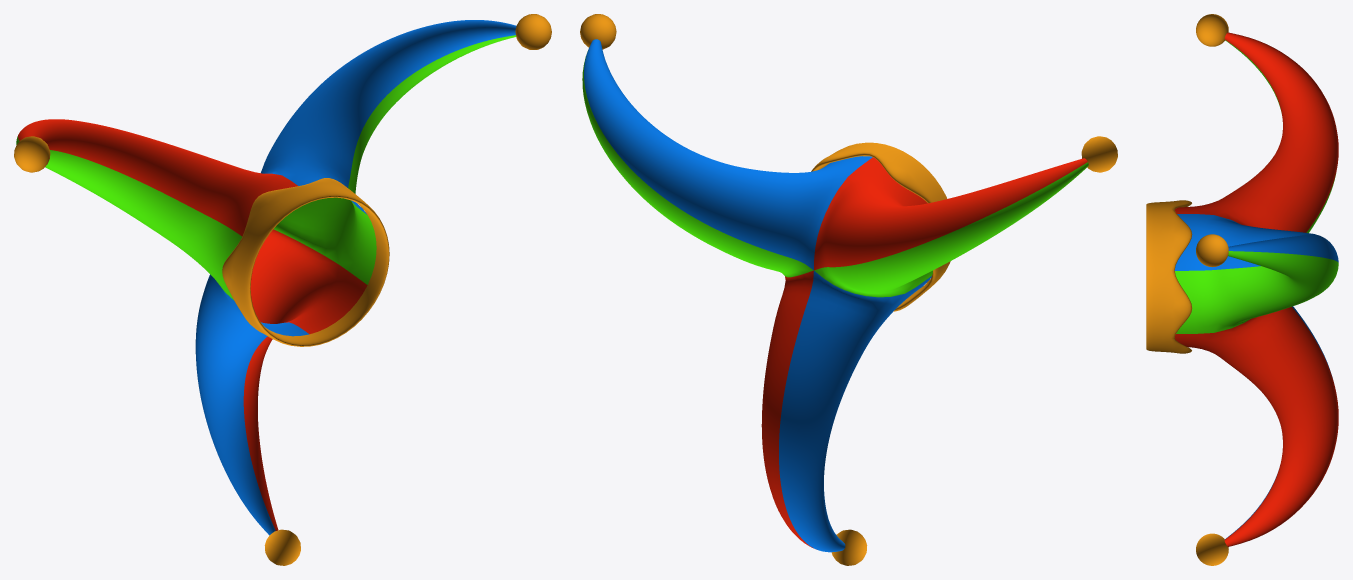
The model's file is clown_hat.fbx.
The picture shows the model from 3 angles, left to right: view 1: azimuth 30°, elevation 25°; view 2: azimuth 150°, elevation 25°; view 3: azimuth 270°, elevation 25°; orthographic projection. The views are drawn at different scales.
Visible parts, largest first — view 1: imagetostl_mesh2, imagetostl_mesh0, imagetostl_mesh1, imagetostl_mesh3, imagetostl_mesh5, imagetostl_mesh6, imagetostl_mesh4; view 2: imagetostl_mesh2, imagetostl_mesh0, imagetostl_mesh1, imagetostl_mesh3, imagetostl_mesh6, imagetostl_mesh4, imagetostl_mesh5; view 3: imagetostl_mesh0, imagetostl_mesh1, imagetostl_mesh3, imagetostl_mesh2, imagetostl_mesh4, imagetostl_mesh6, imagetostl_mesh5.
Part boxes in pixels (box(x1,y1,x2,y2)): imagetostl_mesh2: box(195, 20, 516, 535); imagetostl_mesh0: box(17, 119, 367, 530); imagetostl_mesh1: box(16, 35, 516, 299); imagetostl_mesh3: box(222, 178, 389, 346); imagetostl_mesh5: box(264, 529, 300, 565); imagetostl_mesh6: box(14, 136, 50, 172); imagetostl_mesh4: box(515, 14, 551, 49); imagetostl_mesh2: box(584, 39, 931, 552); imagetostl_mesh0: box(761, 157, 1087, 548); imagetostl_mesh1: box(582, 51, 1088, 297); imagetostl_mesh3: box(811, 142, 950, 311); imagetostl_mesh6: box(1081, 136, 1117, 172); imagetostl_mesh4: box(580, 14, 616, 49); imagetostl_mesh5: box(831, 529, 867, 565); imagetostl_mesh0: box(1175, 32, 1338, 546); imagetostl_mesh1: box(1175, 40, 1338, 333); imagetostl_mesh3: box(1146, 200, 1192, 353); imagetostl_mesh2: box(1174, 214, 1338, 539); imagetostl_mesh4: box(1196, 234, 1228, 267); imagetostl_mesh6: box(1196, 14, 1228, 46); imagetostl_mesh5: box(1196, 533, 1228, 565).
Size of the model in its own units: 1114 by 973 by 387.
